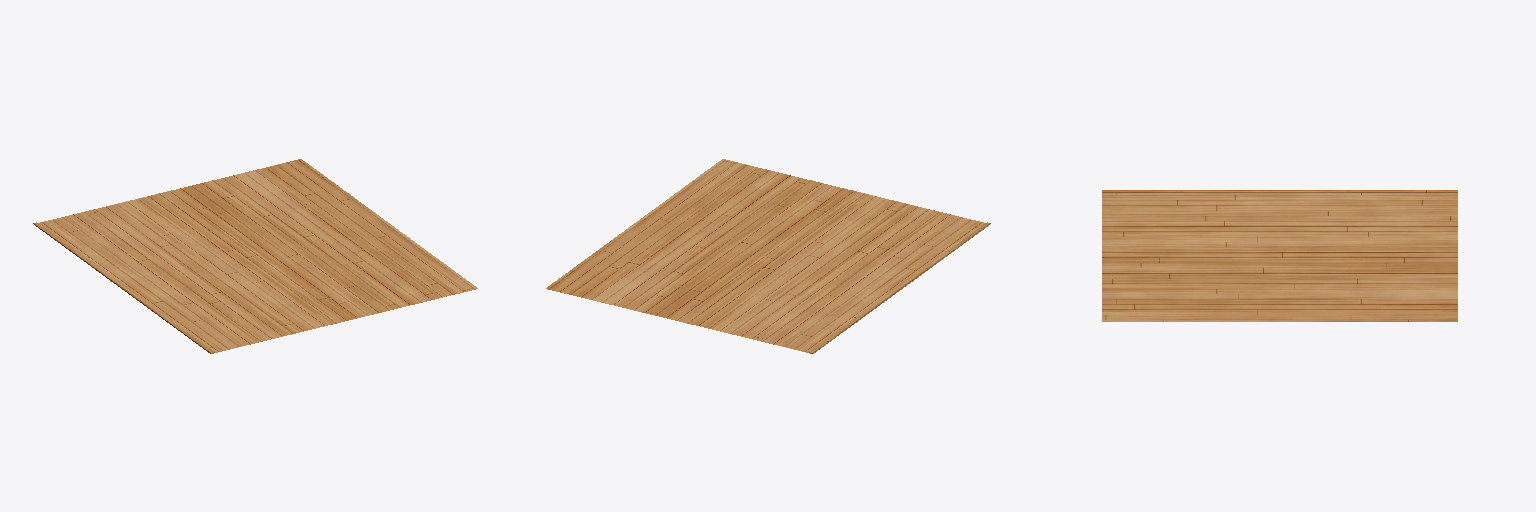
3 views of the same model, side by side, from view 1: azimuth 30°, elevation 25°; view 2: azimuth 150°, elevation 25°; view 3: azimuth 270°, elevation 25° (orthographic).
Parts seen in each view (by area): view 1: Plane001; view 2: Plane001; view 3: Plane001.
Part boxes in pixels (bbox=[...]): Plane001: bbox=[33, 159, 477, 353]; Plane001: bbox=[546, 159, 990, 353]; Plane001: bbox=[1102, 190, 1457, 321].
Bounding box in the file's own units: 361 × 1.34 × 414.
Materials: 1 (1 with a texture image).